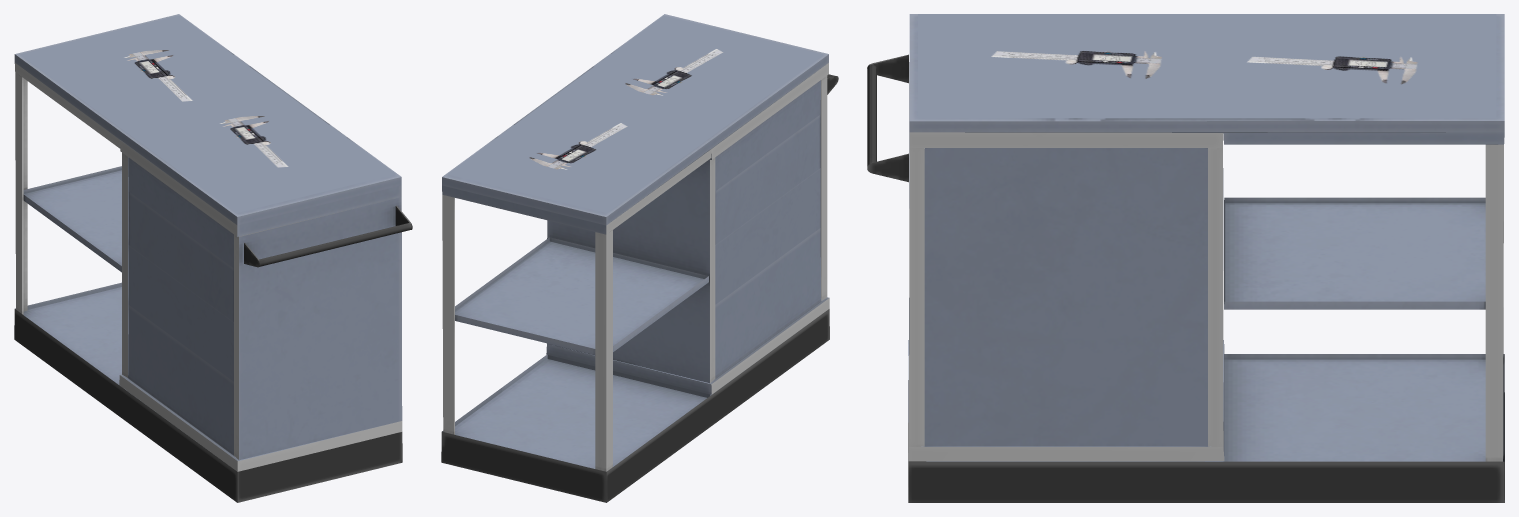
The model's file is celianggongju.fbx.
3 views of the same model, side by side, from view 1: azimuth 30°, elevation 25°; view 2: azimuth 150°, elevation 25°; view 3: azimuth 270°, elevation 25° (orthographic). The views are drawn at different scales.
Visible parts, largest first — view 1: celianggongju; view 2: celianggongju; view 3: celianggongju.
Boxes of the visible parts, x1,y1,x2,y2 form: celianggongju: (14, 14, 412, 502); celianggongju: (441, 14, 838, 502); celianggongju: (867, 14, 1504, 502).
Size of the model in its own units: 53.75 by 91.2 by 134.
